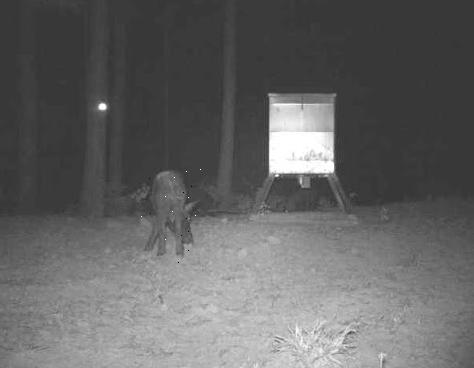Hog: (140, 165, 201, 265)
